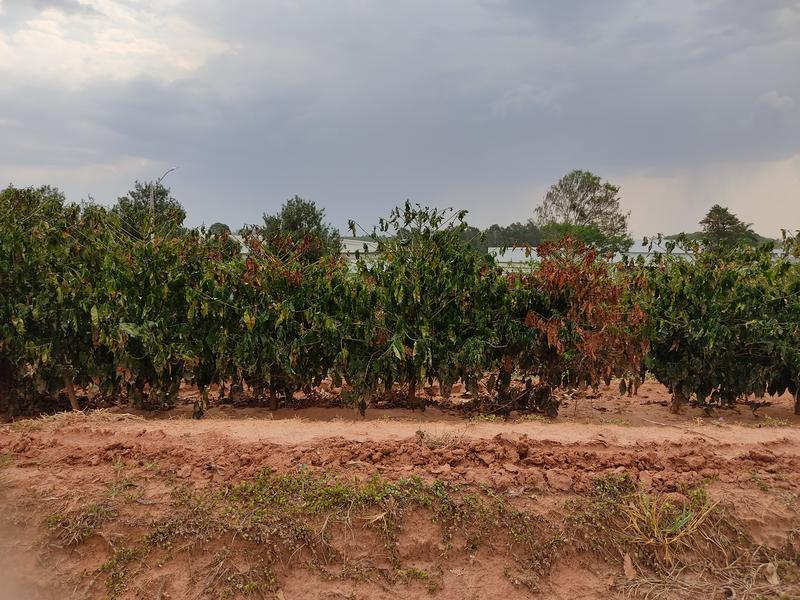coffee: (644, 226, 769, 431), (508, 232, 645, 419), (1, 190, 109, 422), (98, 200, 204, 421), (358, 214, 474, 410), (217, 239, 340, 416), (469, 275, 523, 410)
